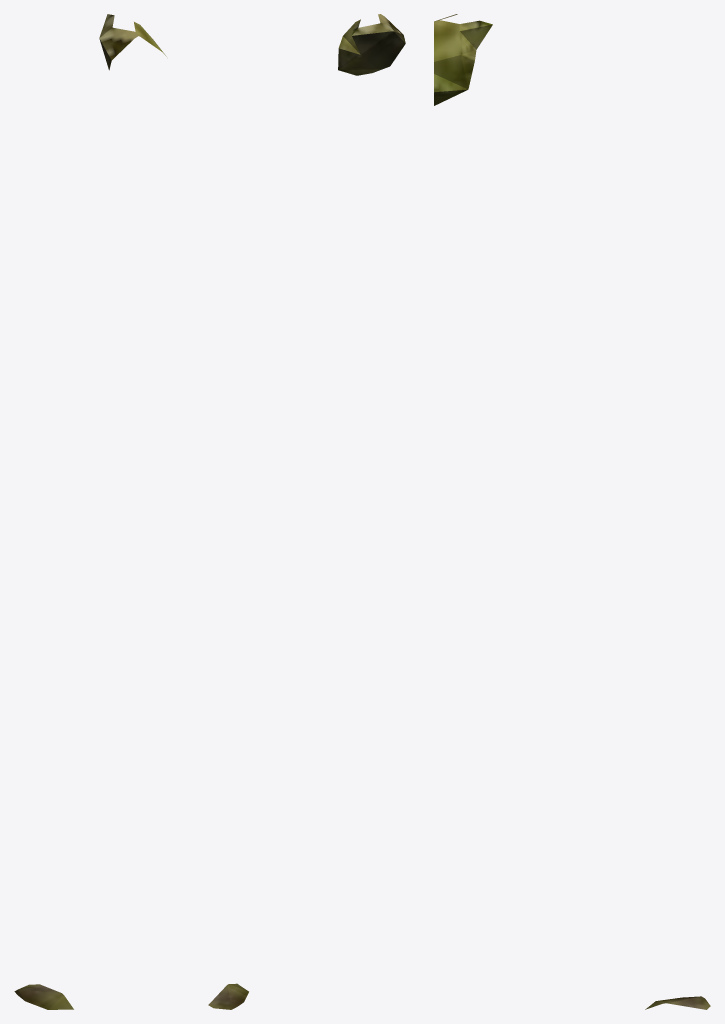
The picture shows the model from 3 angles, left to right: view 1: azimuth 30°, elevation 25°; view 2: azimuth 150°, elevation 25°; view 3: azimuth 270°, elevation 25°; orthographic projection. The views are drawn at different scales.
Size of the model in its own units: 0.0668 by 0.8373 by 0.2172.
Materials: 1 (1 with a texture image).
